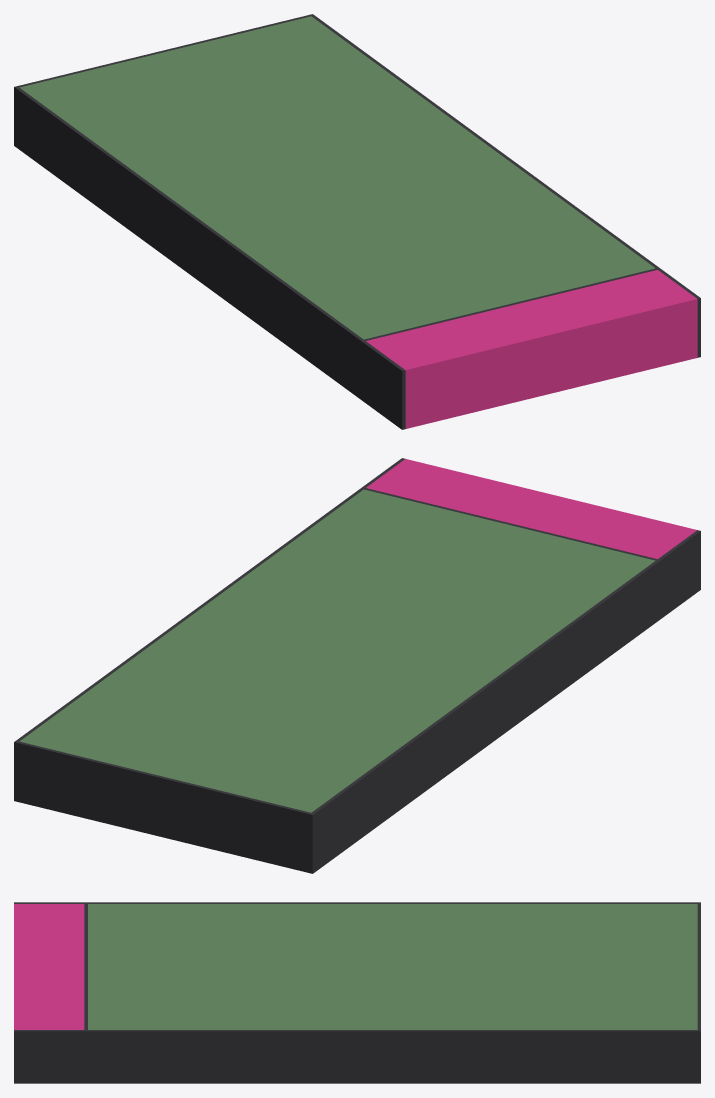
Rendered from pink_sector.glb.
3 views of the same model, one above another, from view 1: azimuth 30°, elevation 25°; view 2: azimuth 150°, elevation 25°; view 3: azimuth 270°, elevation 25° (orthographic). The views are drawn at different scales.
Parts seen in each view (by area): view 1: pink_sector; view 2: pink_sector; view 3: pink_sector.
Part boxes in pixels (left/top/right/bottom): pink_sector: left=14, top=14, right=700, bottom=429; pink_sector: left=14, top=458, right=700, bottom=873; pink_sector: left=14, top=902, right=700, bottom=1083.
Size of the model in its own units: 8 by 1.51 by 18.
1 material, 1 textured.
